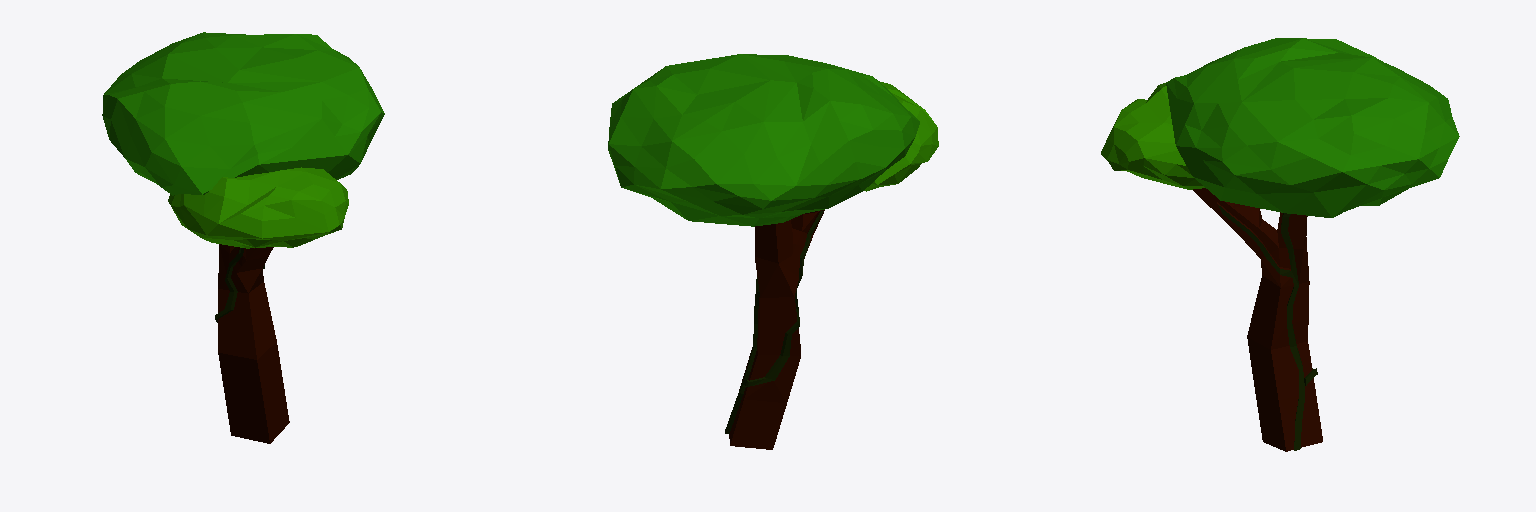
File: ktree.obj
3 renders of one model, left to right at view 1: azimuth 30°, elevation 25°; view 2: azimuth 150°, elevation 25°; view 3: azimuth 270°, elevation 25°, orthographic.
Visible parts, largest first — view 1: Tree_Cube.001; view 2: Tree_Cube.001; view 3: Tree_Cube.001.
Part boxes in pixels (left/top/right/bottom): Tree_Cube.001: left=102, top=32, right=384, bottom=443; Tree_Cube.001: left=608, top=54, right=938, bottom=449; Tree_Cube.001: left=1101, top=38, right=1459, bottom=451.
Size of the model in its own units: 13.33 by 18.71 by 16.62.